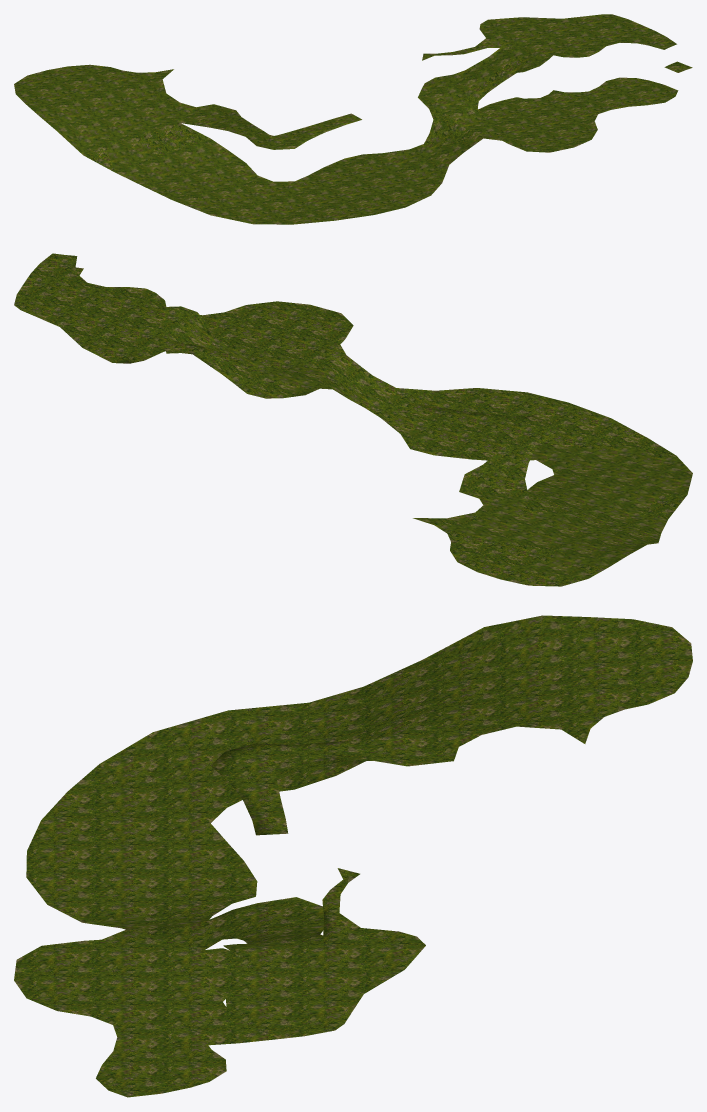
The model's file is OVERHILL_A_01_BLOCK_PUZZLE_GROUND.fbx.
3 renders of one model, top to bottom at view 1: azimuth 30°, elevation 25°; view 2: azimuth 150°, elevation 25°; view 3: azimuth 270°, elevation 25°, orthographic. The views are drawn at different scales.
Parts seen in each view (by area): view 1: OVERHILL_A_01_BLOCK_PUZZLE_GROUND; view 2: OVERHILL_A_01_BLOCK_PUZZLE_GROUND; view 3: OVERHILL_A_01_BLOCK_PUZZLE_GROUND.
Part boxes in pixels (bbox=[...]): OVERHILL_A_01_BLOCK_PUZZLE_GROUND: bbox=[14, 14, 692, 224]; OVERHILL_A_01_BLOCK_PUZZLE_GROUND: bbox=[14, 253, 692, 586]; OVERHILL_A_01_BLOCK_PUZZLE_GROUND: bbox=[14, 615, 692, 1097].
Size of the model in its own units: 325917 by 33610 by 201264.
1 material, 1 textured.
